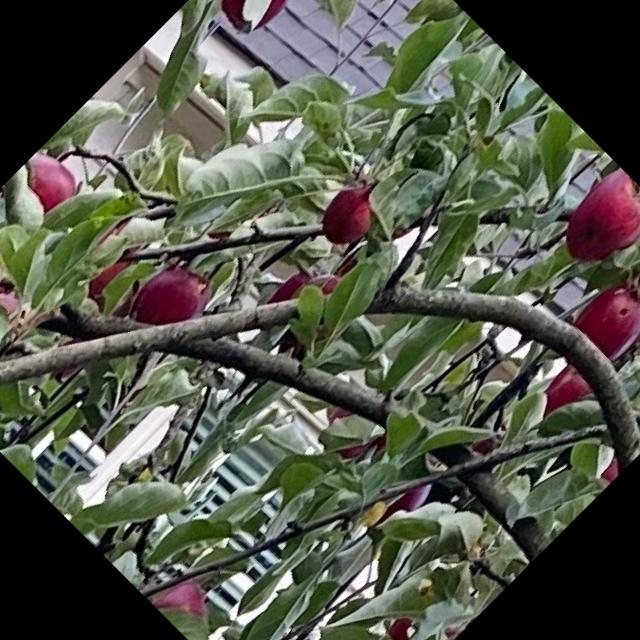Apples: (118, 251, 219, 352), (550, 164, 639, 277), (565, 274, 639, 367), (312, 175, 390, 252), (11, 144, 86, 218), (317, 392, 388, 463), (532, 362, 598, 428), (368, 593, 462, 639), (82, 245, 146, 310), (210, 0, 304, 41), (376, 472, 436, 534), (156, 576, 216, 636), (0, 284, 31, 383), (265, 262, 317, 314)
